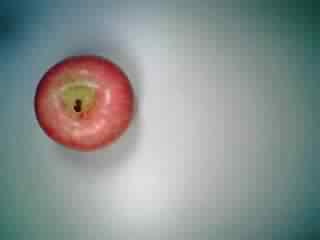apple: (33, 54, 139, 153)
